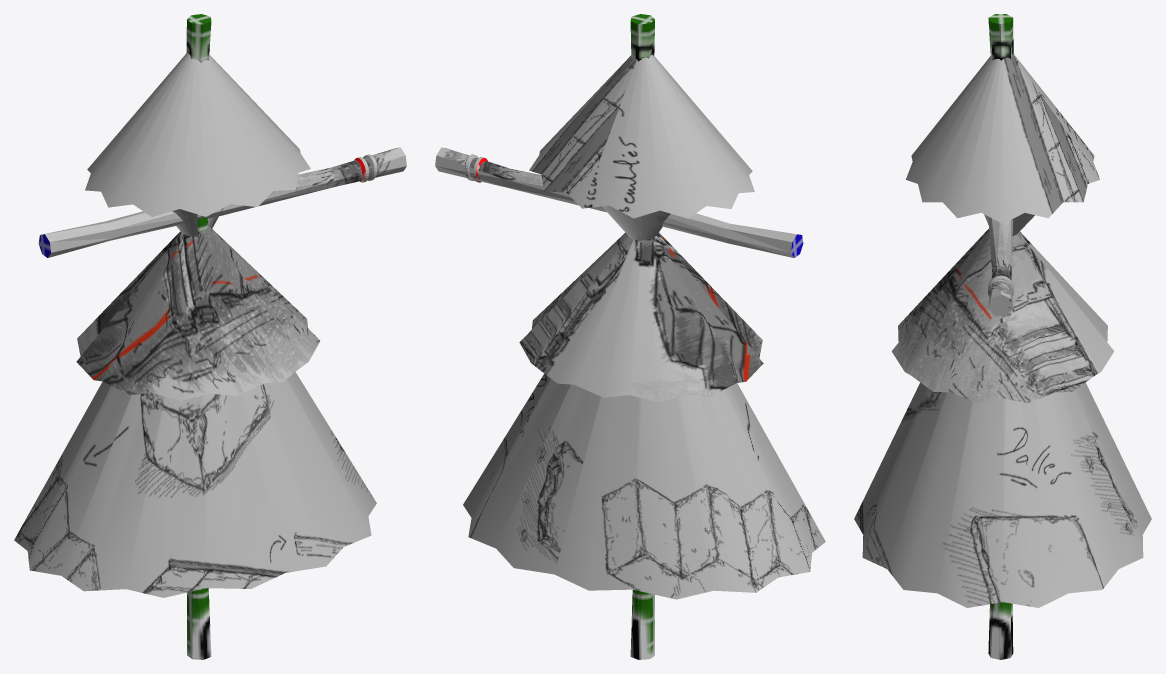
The model's file is Z3_Scarecrow.fbx.
3 renders of one model, left to right at view 1: azimuth 30°, elevation 25°; view 2: azimuth 150°, elevation 25°; view 3: azimuth 270°, elevation 25°, orthographic.
Visible parts, largest first — view 1: Z3_Scarecrow; view 2: Z3_Scarecrow; view 3: Z3_Scarecrow.
Boxes of the visible parts, x1=… form: Z3_Scarecrow: x1=14, y1=14, x2=406, y2=659; Z3_Scarecrow: x1=435, y1=14, x2=825, y2=659; Z3_Scarecrow: x1=854, y1=14, x2=1151, y2=659.
Bounding box in the file's own units: 213 × 350 × 149.
Materials: 2 (2 with a texture image).
